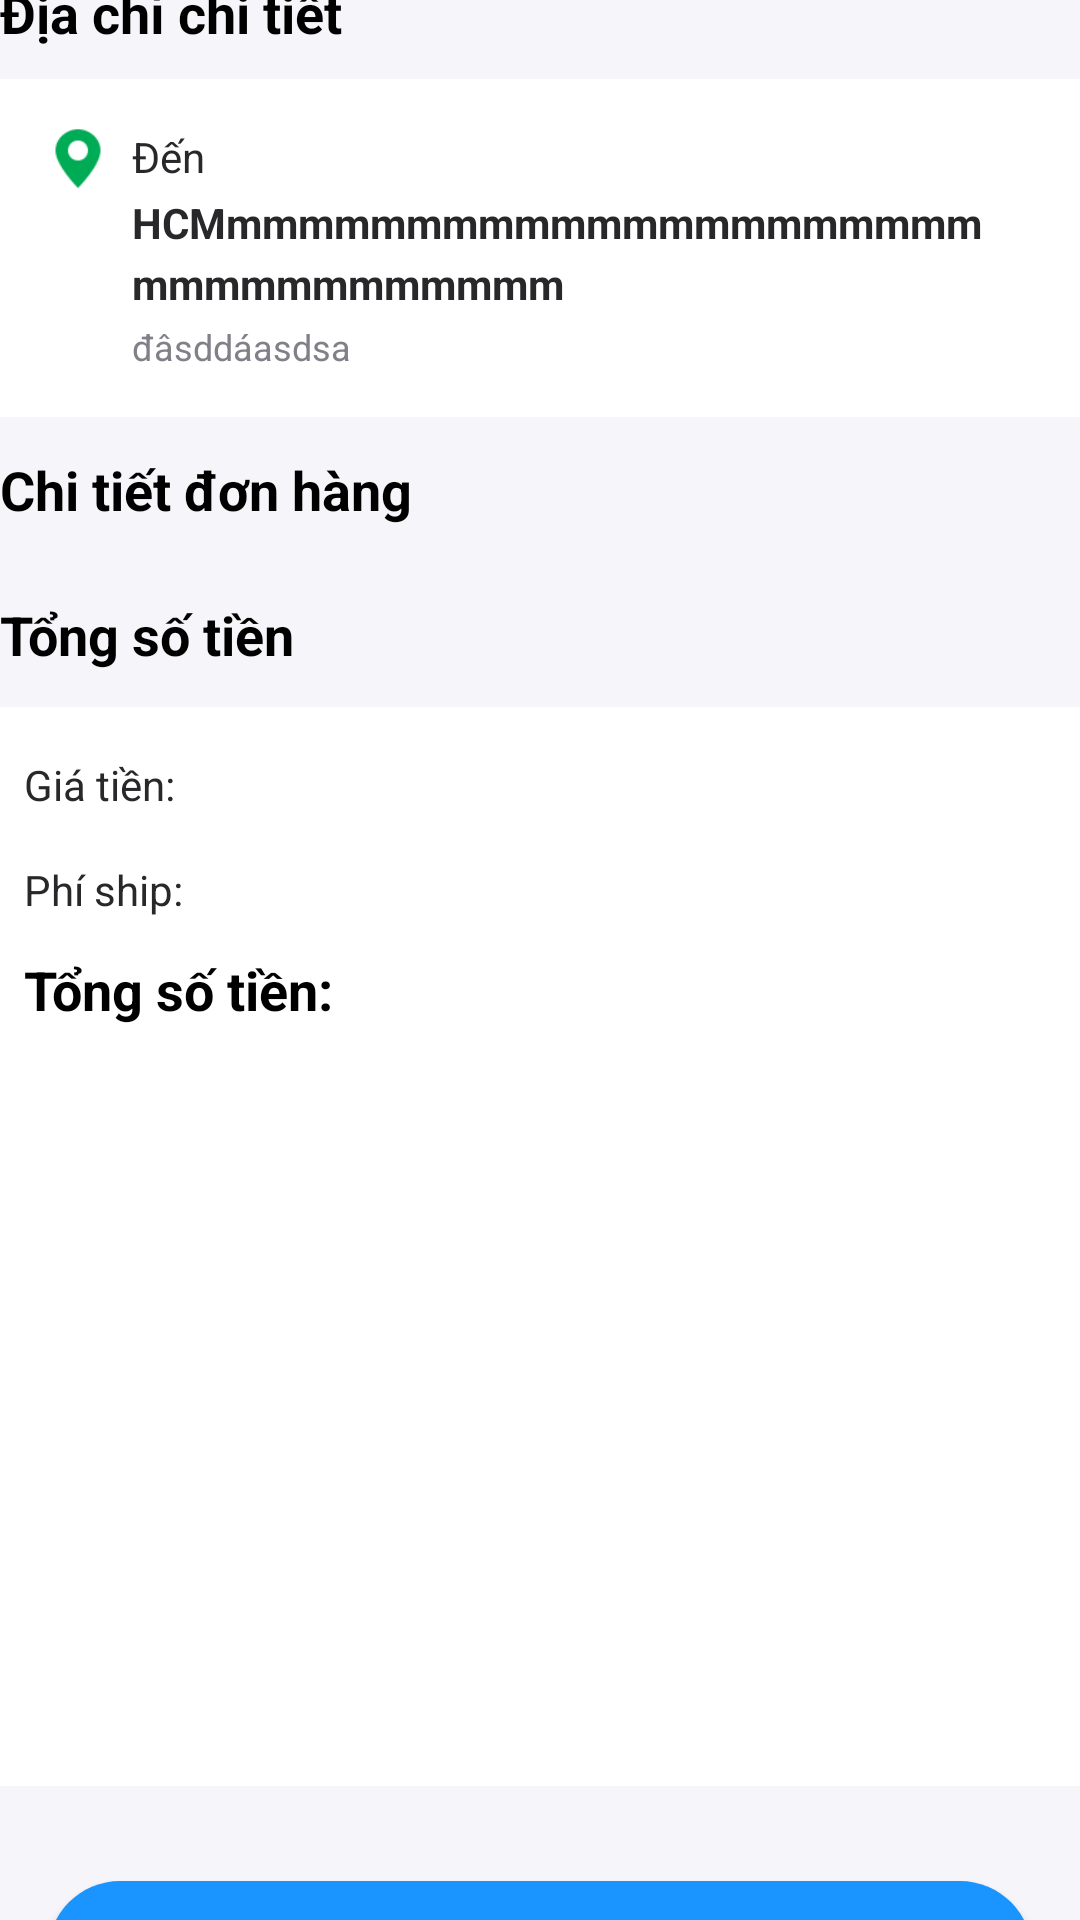

Icons on this 1080×1920 Android screen, each with the point to tap as point (x, y):
address: point (78, 158)
